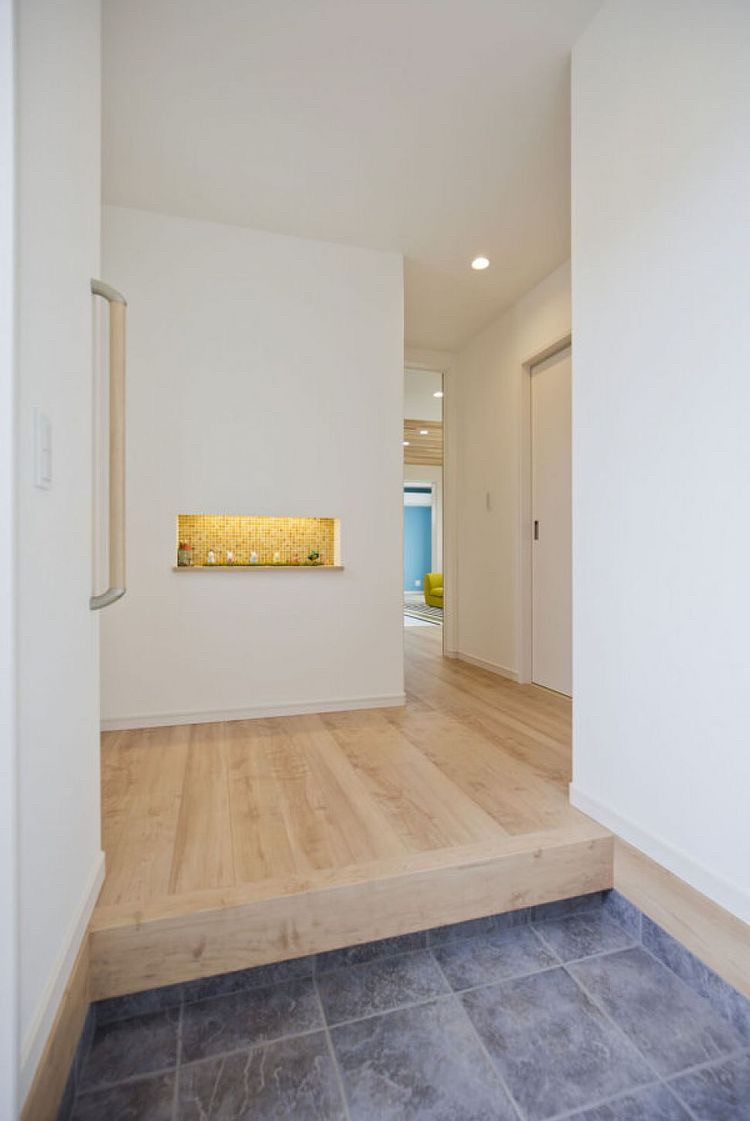floor: (67, 909, 749, 1120)
